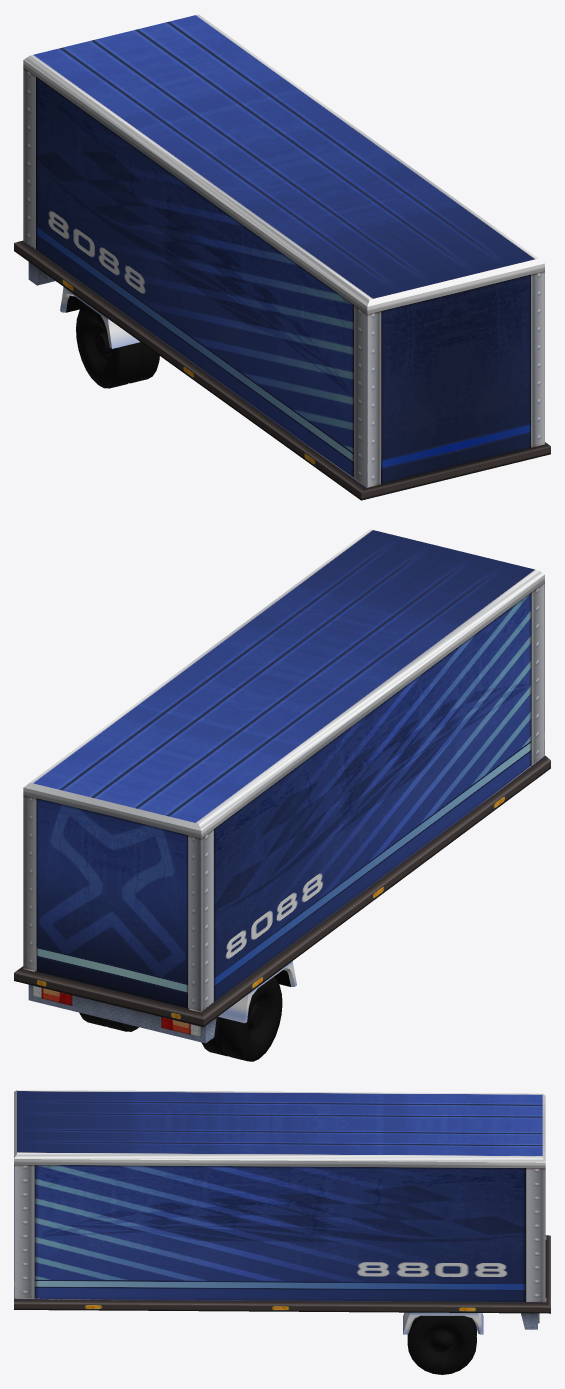
The model's file is Model_Trailer.FBX.
The picture shows the model from 3 angles, top to bottom: view 1: azimuth 30°, elevation 25°; view 2: azimuth 150°, elevation 25°; view 3: azimuth 270°, elevation 25°; orthographic projection. The views are drawn at different scales.
Parts seen in each view (by area): view 1: Trailer, WheelTRR; view 2: Trailer, WheelTRR; view 3: Trailer, WheelTRL.
Part boxes in pixels (x1=…): Trailer: x1=14, y1=14, x2=550, y2=500; WheelTRR: x1=76, y1=303, x2=159, y2=388; Trailer: x1=14, y1=529, x2=550, y2=1043; WheelTRR: x1=201, y1=977, x2=282, y2=1061; Trailer: x1=14, y1=1090, x2=550, y2=1334; WheelTRL: x1=407, y1=1316, x2=476, y2=1374.
Bounding box in the file's own units: 4163 × 6042 × 13198.
Materials: 2 (1 with a texture image).
